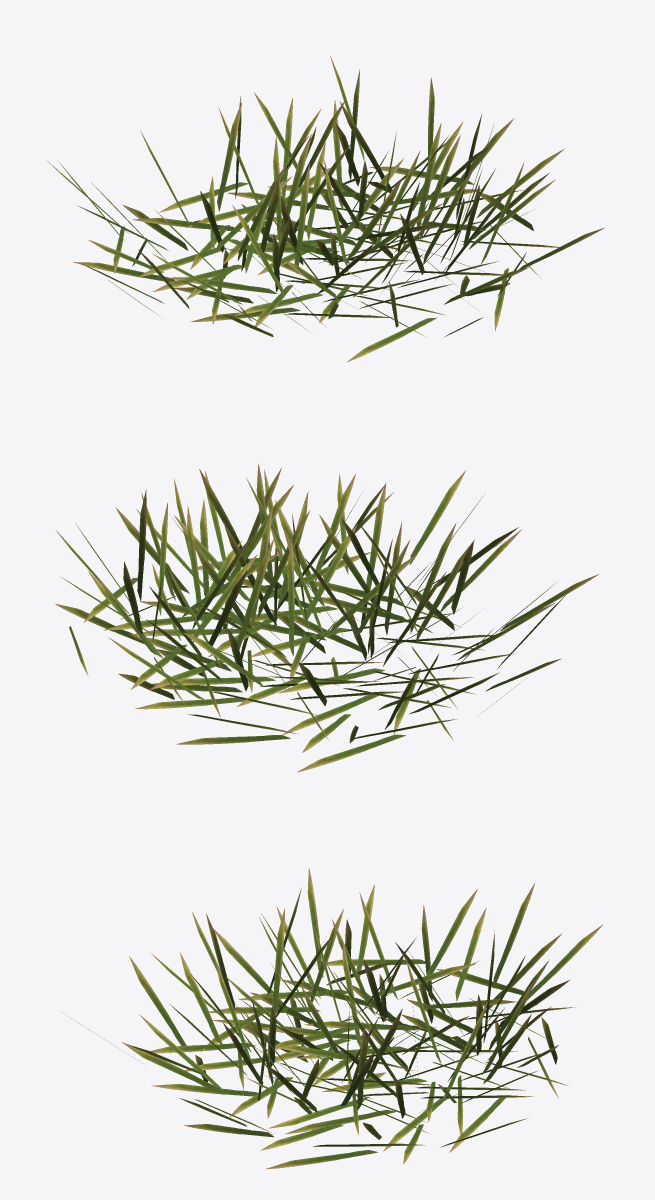
File: grass-tall.lod1.glb
The picture shows the model from 3 angles, top to bottom: view 1: azimuth 30°, elevation 25°; view 2: azimuth 150°, elevation 25°; view 3: azimuth 270°, elevation 25°; orthographic projection. The views are drawn at different scales.
Visible parts, largest first — view 1: Object_2; view 2: Object_2; view 3: Object_2.
Part boxes in pixels (<box>): Object_2: <box>47,56,604,361</box>; Object_2: <box>55,463,598,772</box>; Object_2: <box>68,868,603,1169</box>.
Bounding box in the file's own units: 2.15 × 0.7999 × 2.11.
1 material, 1 textured.
